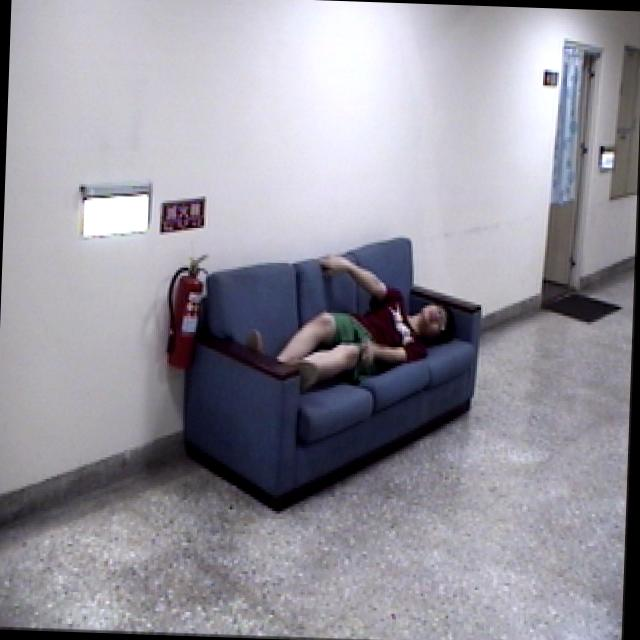lie: (244, 247, 456, 408)
